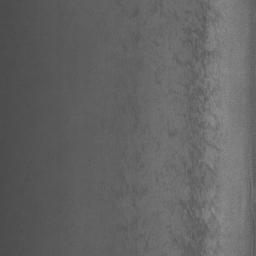Silk spot: (117, 0, 225, 256), (101, 95, 160, 177), (120, 216, 167, 256), (99, 182, 152, 209)
